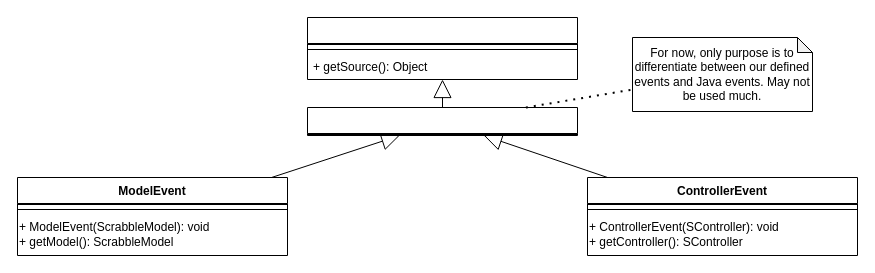
The diagram is 875 pixels wide and 273 high, and some of its shapes have lost their labels. Here are the shapes that lost their labels. From the top down, the box of each, then its label:
(306, 16, 578, 80): AWTEvent
(306, 106, 578, 136): ScrabbleEvent
